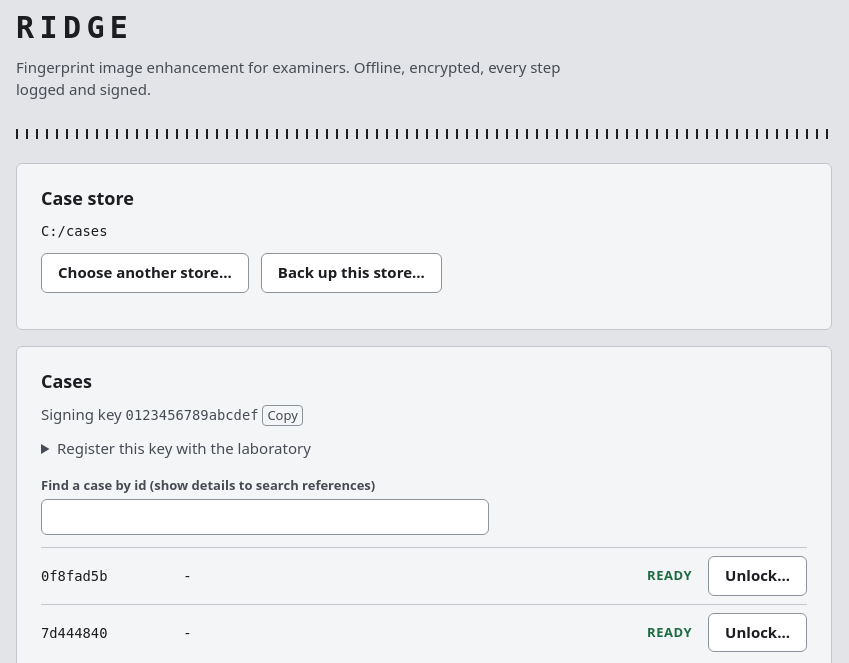
Test: case details › exports a key card for the laboratory's register
Click the heading "Register this key with the laboratory". click: [184, 448]
box: [57,438,311,458]
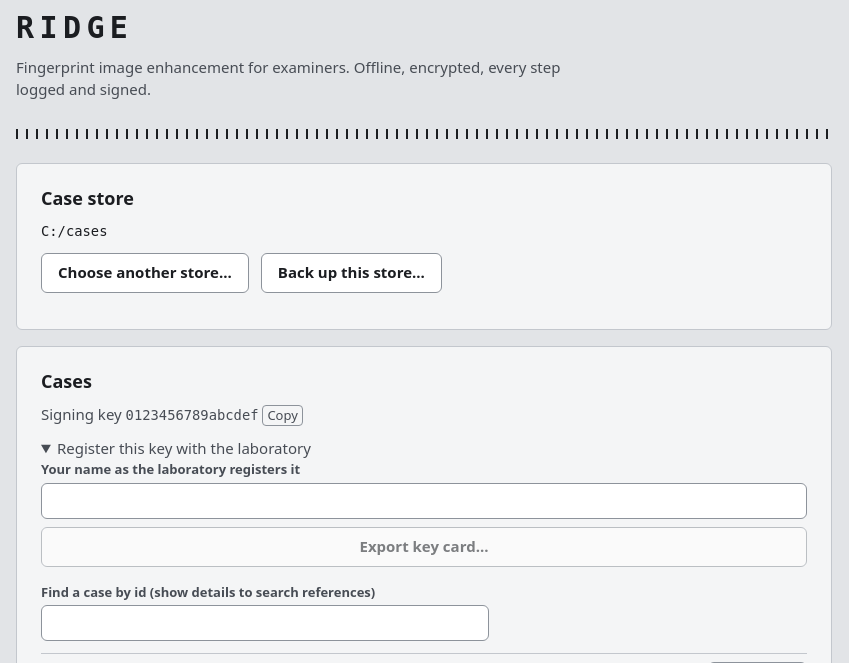
Type "Examiner A" into the field labelled "Your name as the laboratory registers it". click: [424, 501]
box: [41,483,807,519]
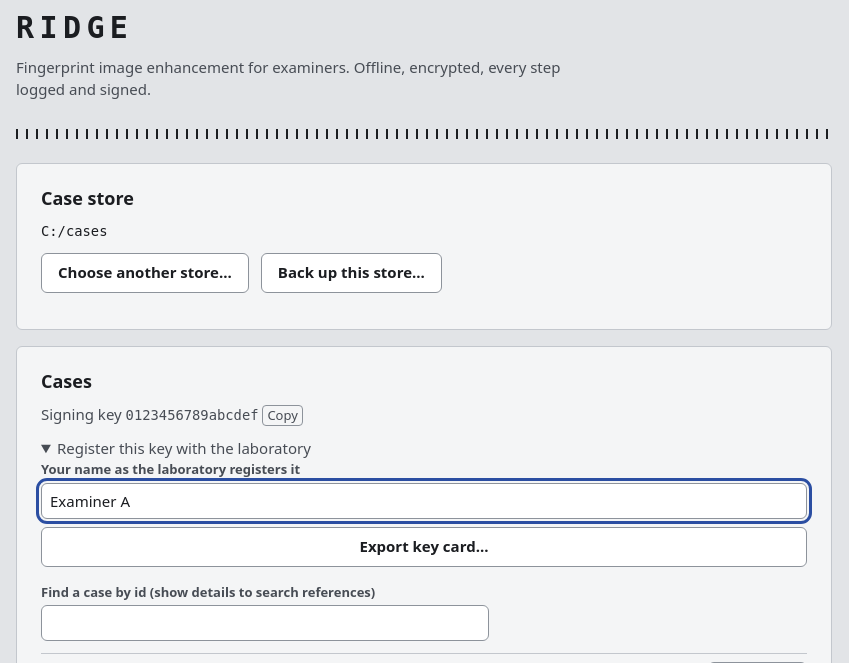
Click the button "Export key card...". click: [424, 547]
box: [41,527,807,567]
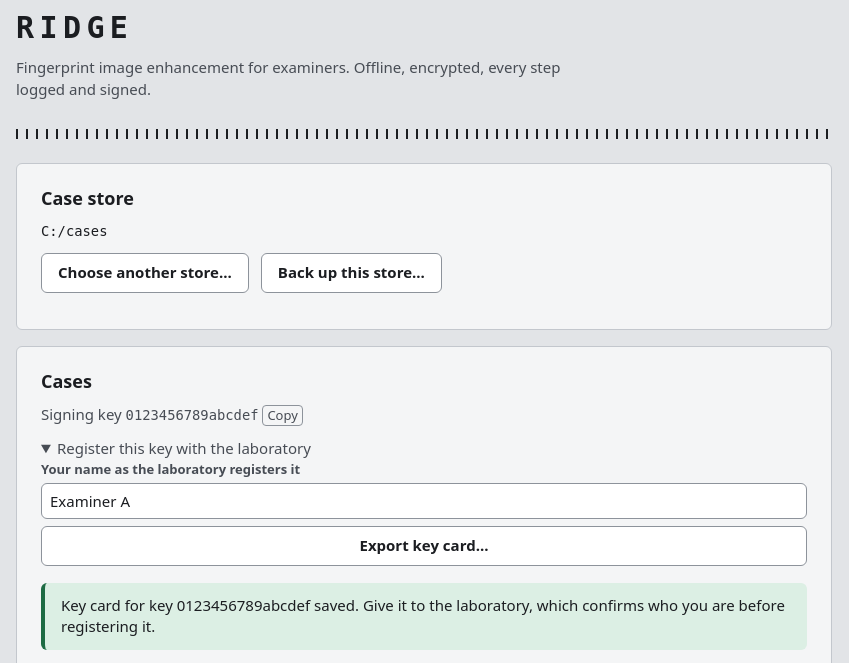
Expected: the text "Key card for key 0123456789abcdef saved" is shown, [61,595,785,636]
